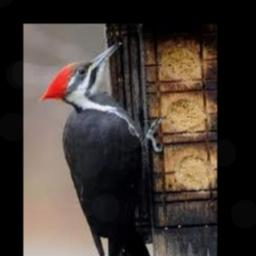Woodpecker: (39, 41, 164, 256)
